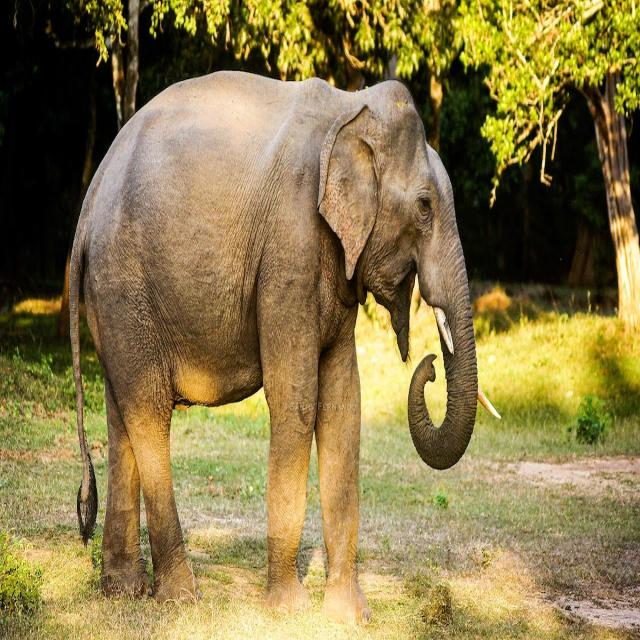Elephant: (62, 50, 489, 606)
